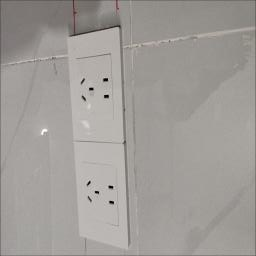outlet: (69, 16, 129, 143), (75, 140, 130, 252)
